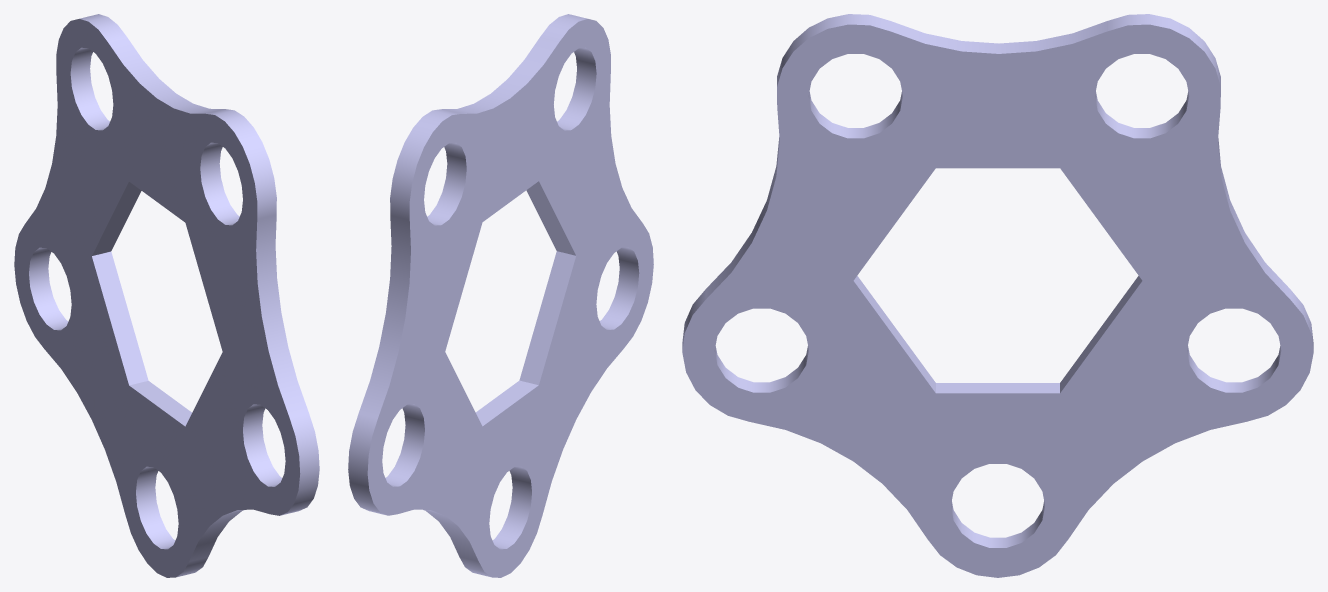
The model's file is 6 Placa 11.fbx.
3 views of the same model, side by side, from view 1: azimuth 30°, elevation 25°; view 2: azimuth 150°, elevation 25°; view 3: azimuth 270°, elevation 25° (orthographic). The views are drawn at different scales.
Parts seen in each view (by area): view 1: PartBody; view 2: PartBody; view 3: PartBody.
Part boxes in pixels (box(x1,y1,x2,y2)): PartBody: box(14, 14, 319, 577); PartBody: box(348, 14, 653, 577); PartBody: box(682, 14, 1313, 577).
Size of the model in its own units: 0.1969 by 4.84 by 5.
